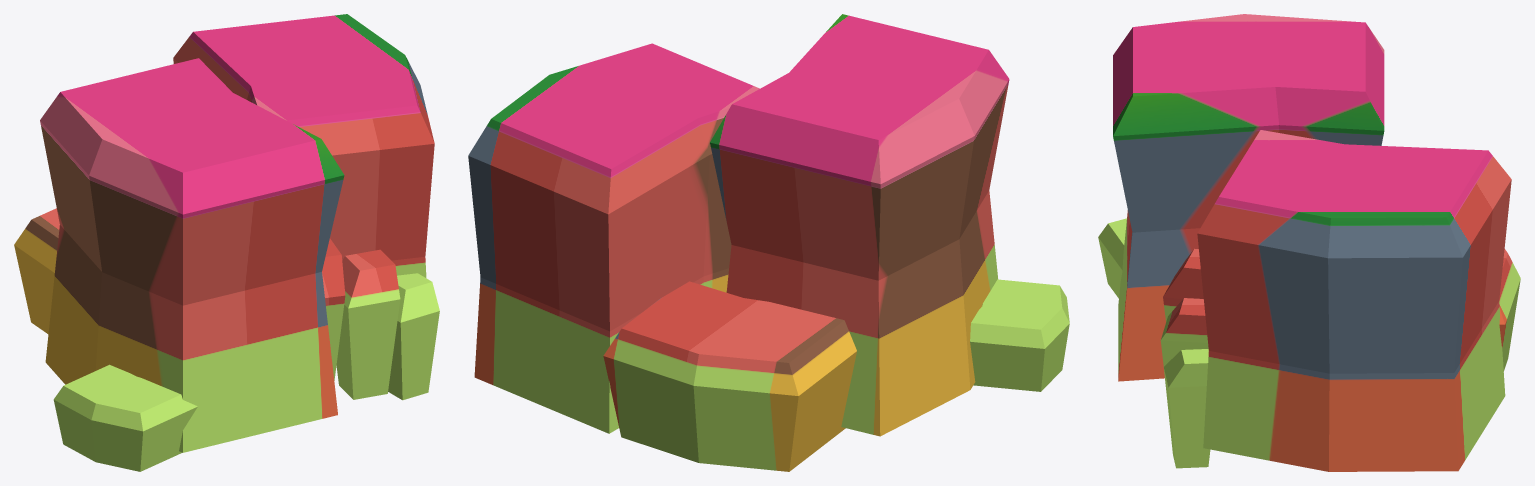
The model's file is rock_4.fbx.
3 renders of one model, left to right at view 1: azimuth 30°, elevation 25°; view 2: azimuth 150°, elevation 25°; view 3: azimuth 270°, elevation 25°, orthographic. The views are drawn at different scales.
Parts seen in each view (by area): view 1: rock_4; view 2: rock_4; view 3: rock_4.
Boxes of the visible parts, x1,y1,x2,y2 form: rock_4: [14, 14, 439, 471]; rock_4: [468, 14, 1069, 471]; rock_4: [1098, 14, 1520, 471].
Size of the model in its own units: 187 by 127 by 157.
